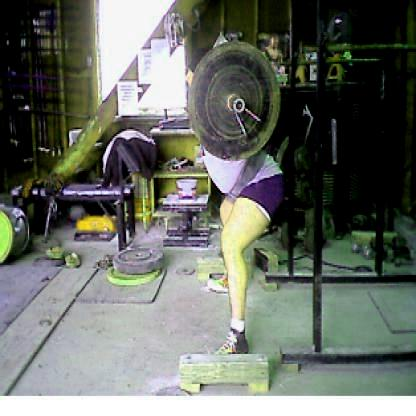Barbell: (229, 96, 244, 117)
